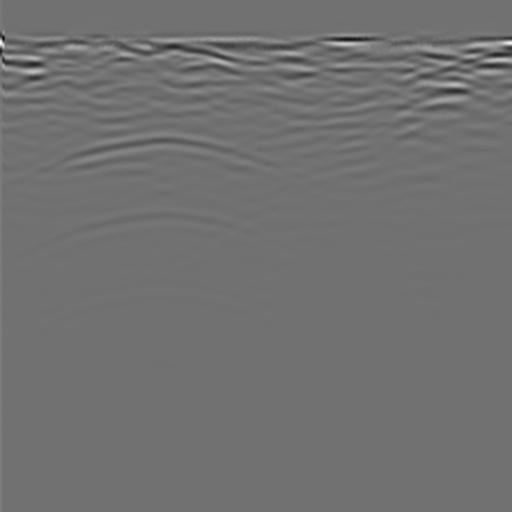hyperbola: (20, 120, 310, 258)
